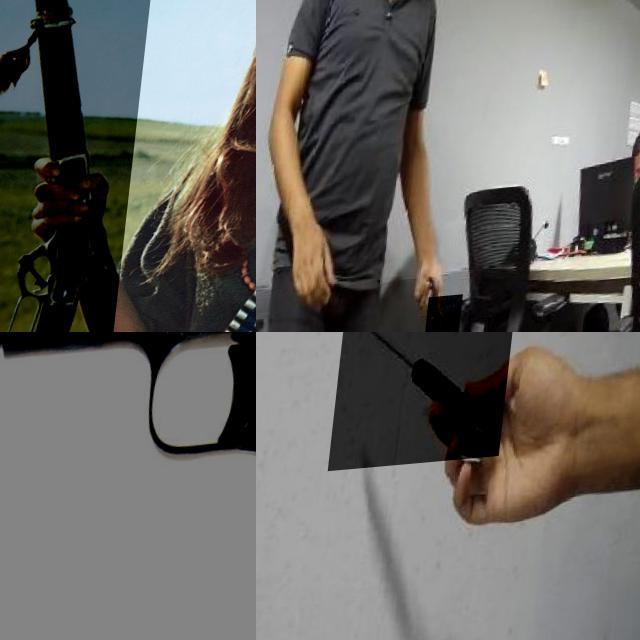-: (334, 332, 520, 476), (432, 300, 474, 332)
gun-knife-thesis - v11 Yolov5 augmented: (0, 332, 256, 640), (0, 0, 160, 332)
